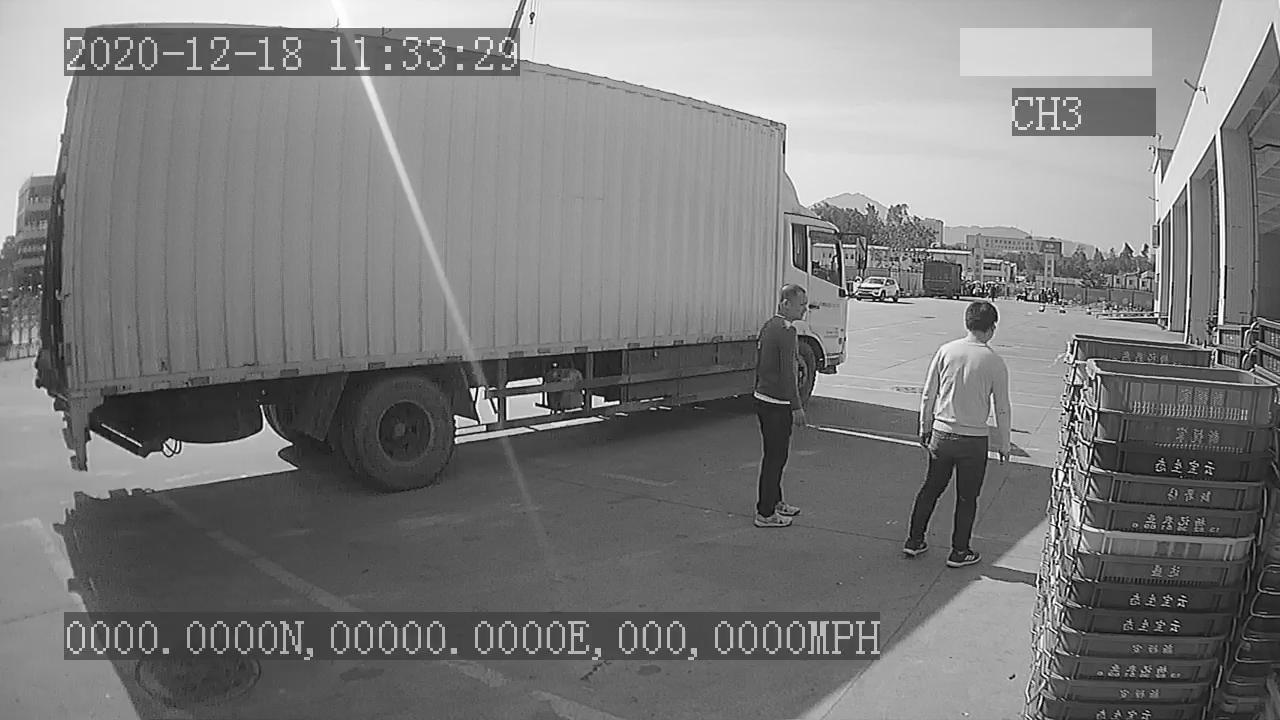person: (902, 297, 1015, 567)
